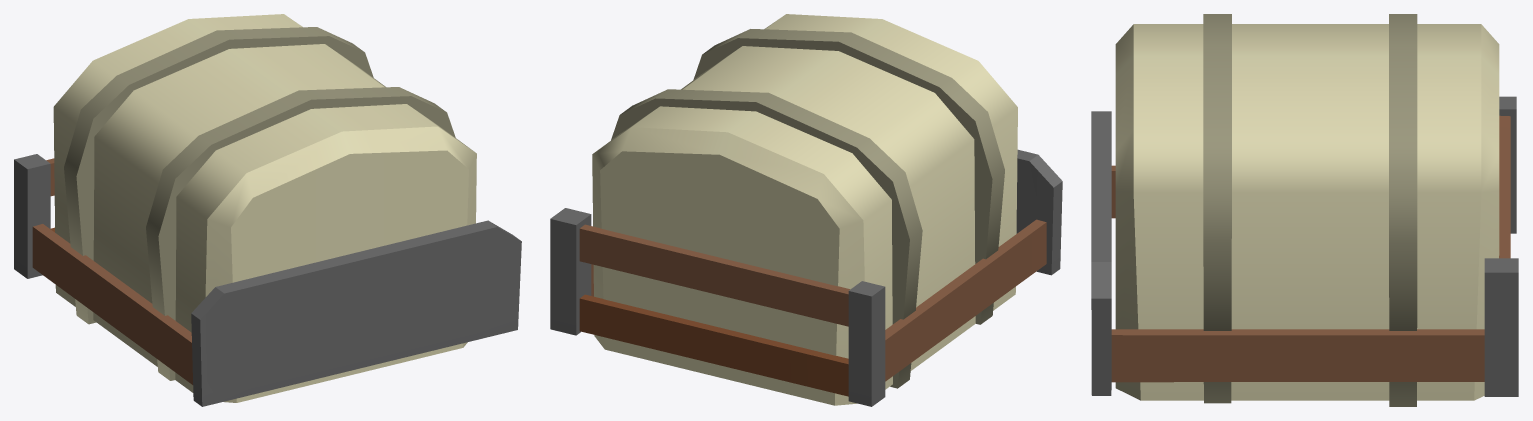
File: cargo_00_A_1.fbx
The picture shows the model from 3 angles, left to right: view 1: azimuth 30°, elevation 25°; view 2: azimuth 150°, elevation 25°; view 3: azimuth 270°, elevation 25°; orthographic projection. The views are drawn at different scales.
Parts seen in each view (by area): view 1: cargo_00_A_1; view 2: cargo_00_A_1; view 3: cargo_00_A_1.
Boxes of the visible parts, bbox=[...] form: cargo_00_A_1: bbox=[14, 14, 521, 406]; cargo_00_A_1: bbox=[550, 14, 1062, 406]; cargo_00_A_1: bbox=[1091, 14, 1518, 406].
Size of the model in its own units: 1223 by 911 by 1242.
